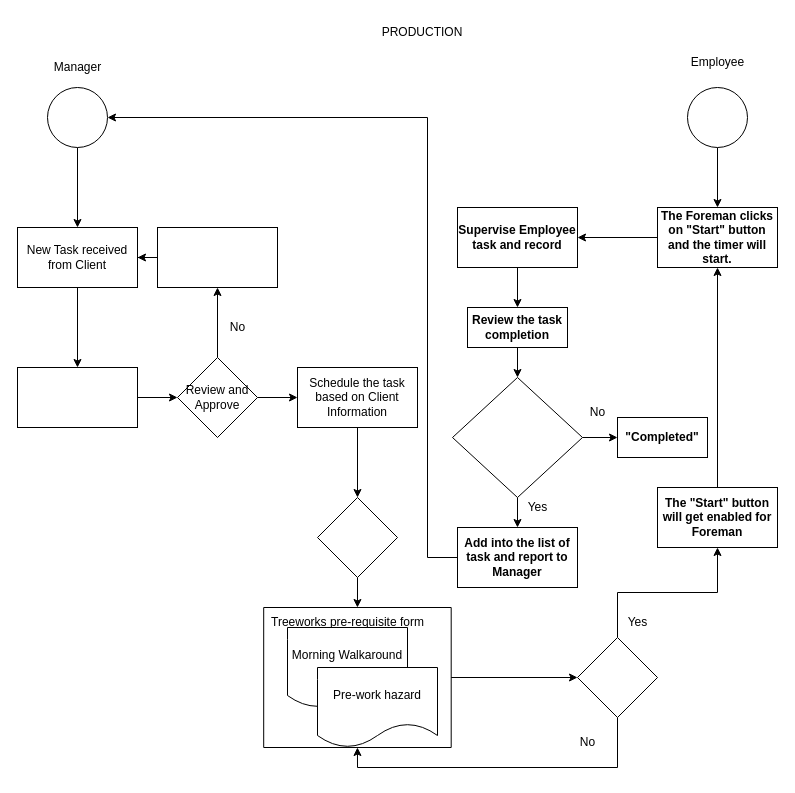
This 795x793 diagram has some shape labels left out. The centre of each missing label's shape, as x and y in pixels:
Add into the list of tasks: pixel 77 397
Assets / Equipment required?: pixel 357 537
Contact the client for more information: pixel 217 257
Is any new task assigned by Client: pixel 517 437
Signed?: pixel 617 677
